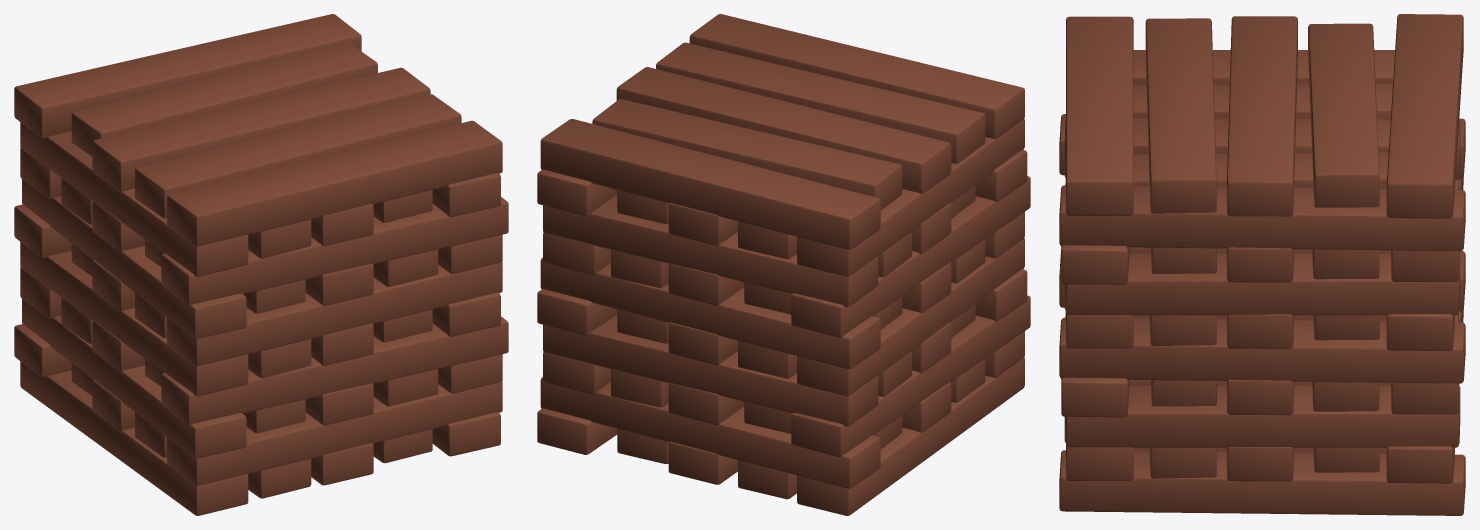
The model's file is SM_WoodenBlock.fbx.
3 renders of one model, left to right at view 1: azimuth 30°, elevation 25°; view 2: azimuth 150°, elevation 25°; view 3: azimuth 270°, elevation 25°, orthographic. The views are drawn at different scales.
Parts seen in each view (by area): view 1: Cube; view 2: Cube; view 3: Cube.
Boxes of the visible parts, <box> form: Cube: <box>14,14,508,515</box>; Cube: <box>537,14,1030,515</box>; Cube: <box>1059,14,1465,515</box>.
Size of the model in its own units: 1.03 by 1.03 by 0.9339.
